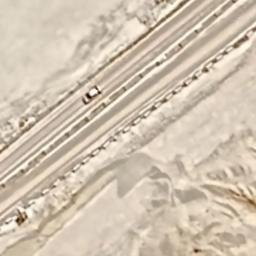sedan: (79, 84, 106, 104)
